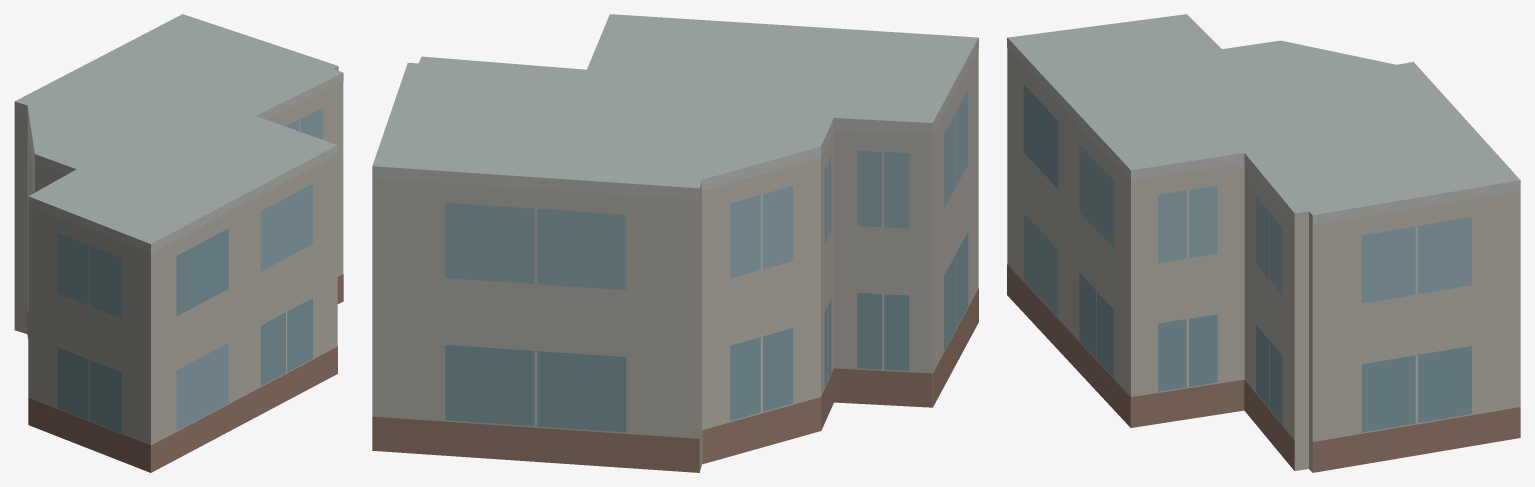
The model's file is survey-upis-32549026.glb.
3 renders of one model, left to right at view 1: azimuth 30°, elevation 25°; view 2: azimuth 150°, elevation 25°; view 3: azimuth 270°, elevation 25°, orthographic. The views are drawn at different scales.
Visible parts, largest first — view 1: survey-upis-32549026.tmp; view 2: survey-upis-32549026.tmp; view 3: survey-upis-32549026.tmp.
Boxes of the visible parts, bbox=[...] form: survey-upis-32549026.tmp: bbox=[14, 14, 343, 472]; survey-upis-32549026.tmp: bbox=[372, 14, 978, 472]; survey-upis-32549026.tmp: bbox=[1007, 14, 1520, 472].
Bounding box in the file's own units: 10.23 × 6.1 × 11.03.
